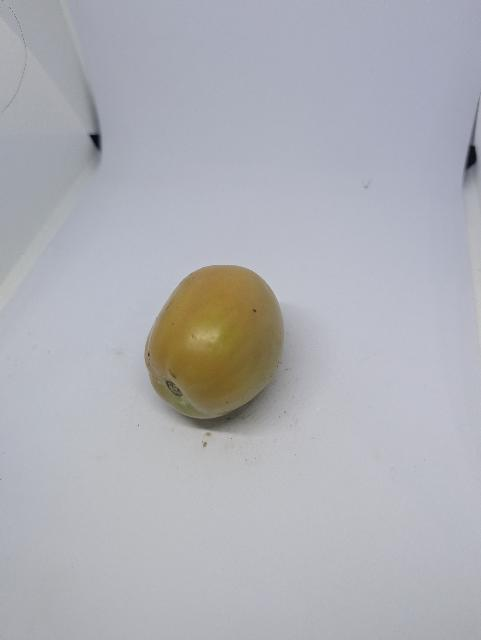turning: (143, 257, 289, 427)
